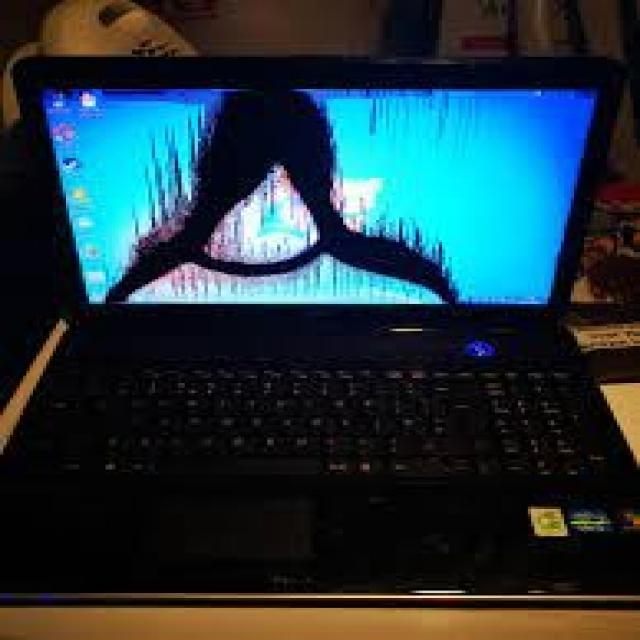Screen cracks: (76, 91, 505, 309)
